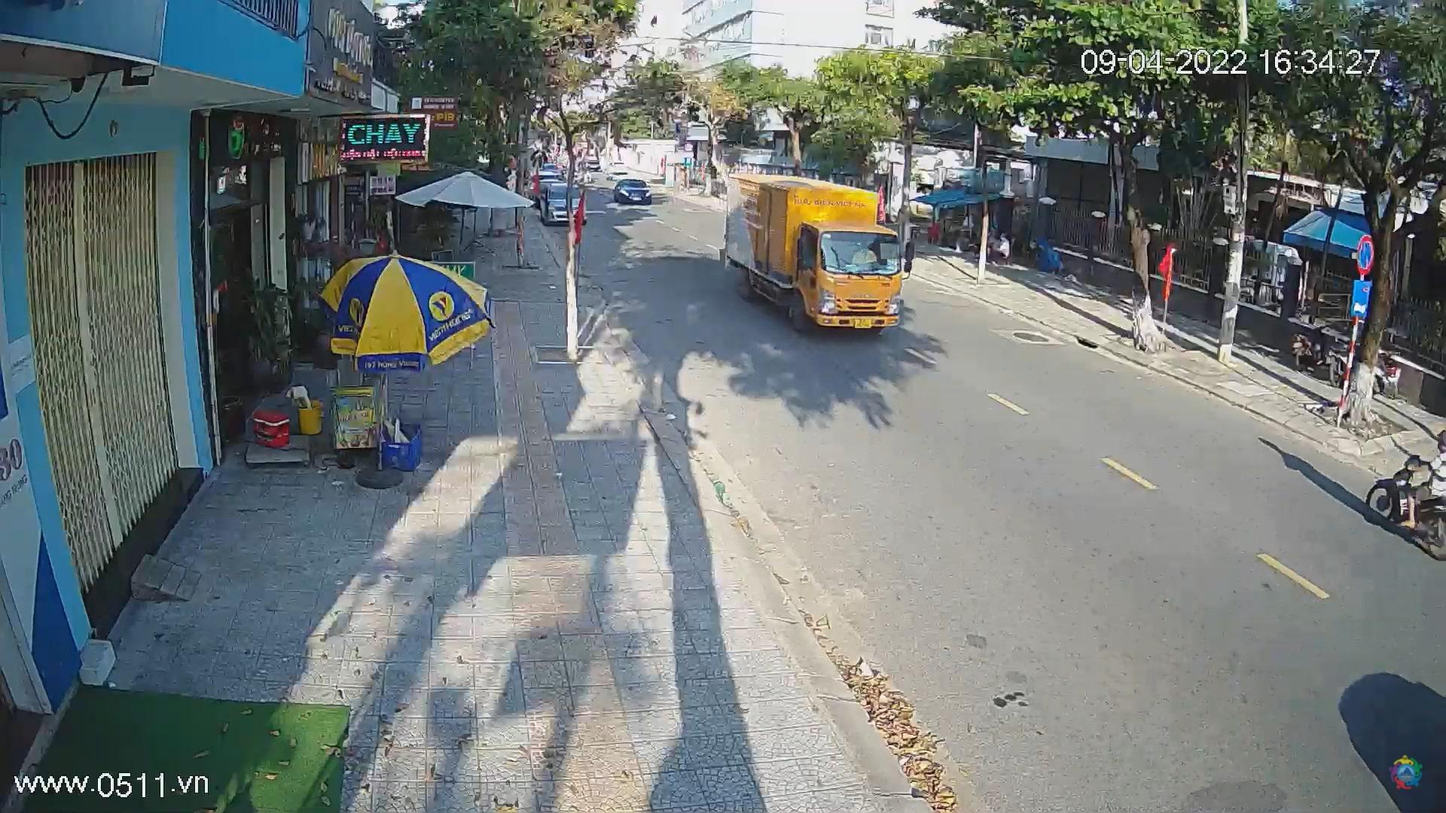car: (613, 178, 650, 202)
truck: (725, 171, 913, 331)
